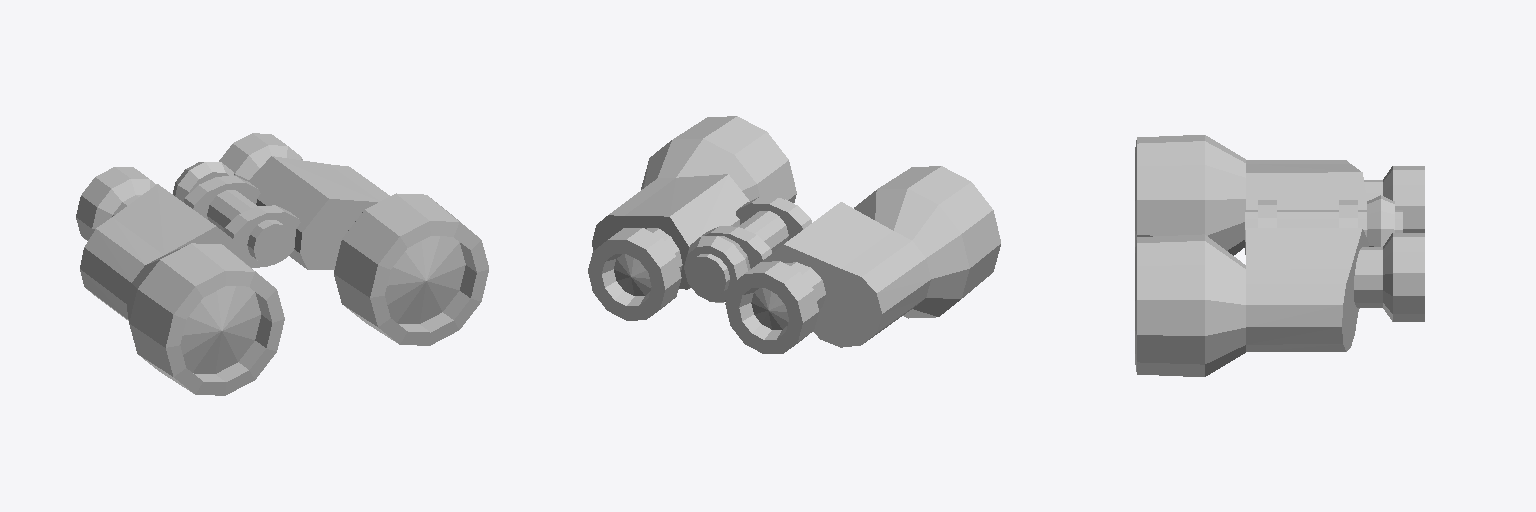
The model's file is binoculars.obj.
3 views of the same model, side by side, from view 1: azimuth 30°, elevation 25°; view 2: azimuth 150°, elevation 25°; view 3: azimuth 270°, elevation 25° (orthographic).
Visible parts, largest first — view 1: binoculars_Cylinder.083; view 2: binoculars_Cylinder.083; view 3: binoculars_Cylinder.083.
Boxes of the visible parts, box(x1,y1,x2,y2) form: binoculars_Cylinder.083: box(76, 133, 488, 395); binoculars_Cylinder.083: box(588, 116, 1000, 353); binoculars_Cylinder.083: box(1135, 135, 1424, 376).
Bounding box in the file's own units: 0.7974 × 0.3015 × 0.6102.